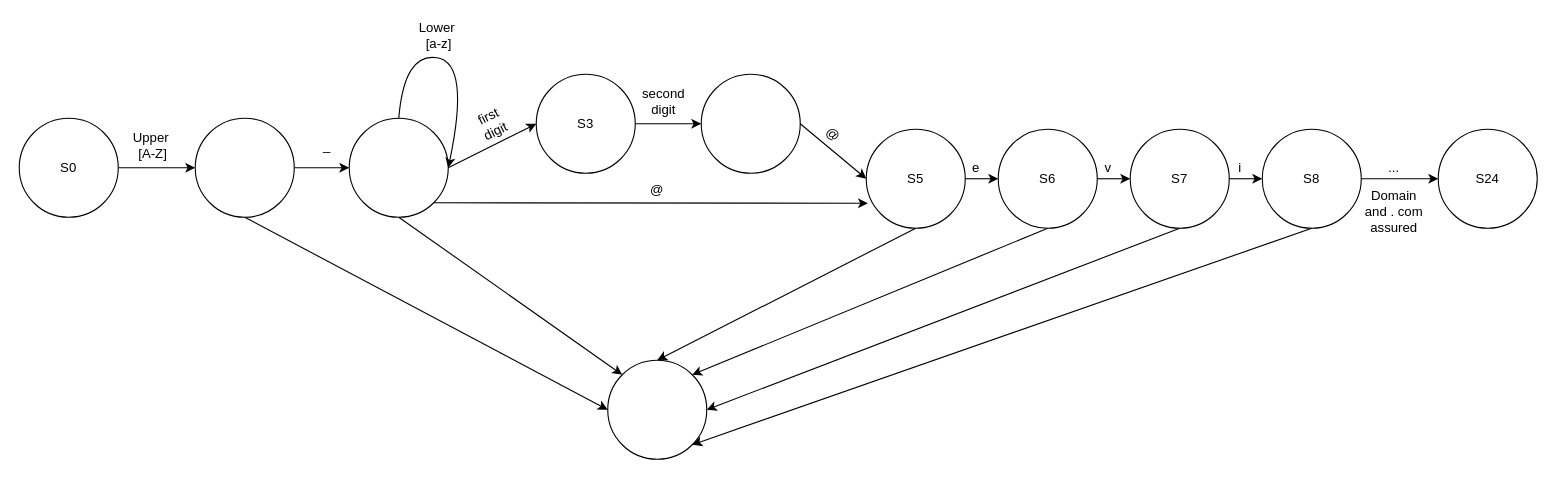
The diagram is 1557 pixels wide and 479 high, and some of its shapes have lost their labels. Each missing label, with the box of its shape:
S-1: (607, 359, 707, 459)
S1: (194, 117, 294, 217)
S2: (348, 117, 448, 217)
S4: (700, 73, 800, 173)
